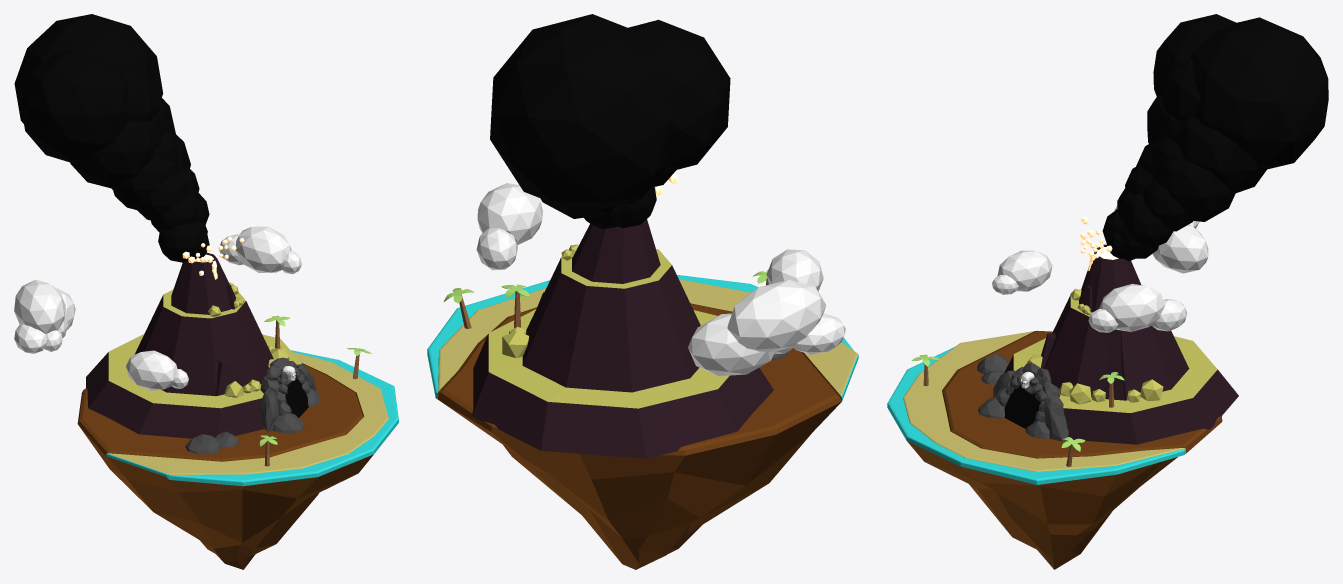
Rendered from island.glb.
The picture shows the model from 3 angles, left to right: view 1: azimuth 30°, elevation 25°; view 2: azimuth 150°, elevation 25°; view 3: azimuth 270°, elevation 25°; orthographic projection. The views are drawn at different scales.
Visible parts, largest first — view 1: Base.001_1, Base_35, Smoke.013_49, Smoke.012_48, Smoke.011_47, Clouds.002_26, Clouds.001_25, Smoke.007_43, Clouds.010_33, Smoke.014_50, Smoke.001_37, Smoke.005_41 (+7 smaller); view 2: Base_35, Base.001_1, Smoke.012_48, Smoke.013_49, Clouds.002_26, Clouds.009_32, Clouds.001_25, Clouds.010_33, Clouds.003_27, Clouds.008_31, Smoke.001_37, Icosphere.012_87; view 3: Base.001_1, Base_35, Smoke.012_48, Smoke.010_46, Smoke.006_42, Smoke.013_49, Clouds.001_25, Clouds.009_32, Smoke.014_50, Clouds.010_33, Smoke.004_40, Smoke.002_38 (+7 smaller).
Part boxes in pixels (x1,y1,x2,y2): Base.001_1: (77, 350, 398, 569); Base_35: (86, 252, 301, 438); Smoke.013_49: (20, 47, 128, 163); Smoke.012_48: (14, 14, 163, 123); Smoke.011_47: (70, 120, 156, 188); Clouds.002_26: (14, 279, 65, 333); Clouds.001_25: (235, 226, 291, 272); Smoke.007_43: (112, 155, 177, 209); Clouds.010_33: (126, 350, 177, 390); Smoke.014_50: (122, 70, 160, 121); Smoke.001_37: (158, 221, 202, 262); Smoke.005_41: (136, 172, 187, 220); Base_35: (472, 219, 773, 458); Base.001_1: (427, 275, 858, 569); Smoke.012_48: (490, 14, 670, 214); Smoke.013_49: (628, 19, 730, 173); Clouds.002_26: (727, 280, 826, 352); Clouds.009_32: (688, 313, 775, 376); Clouds.001_25: (477, 183, 542, 244); Clouds.010_33: (766, 249, 823, 291); Clouds.003_27: (476, 228, 517, 270); Clouds.008_31: (793, 313, 845, 354); Smoke.001_37: (618, 187, 656, 228); Icosphere.012_87: (502, 331, 528, 357); Base.001_1: (887, 330, 1222, 569); Base_35: (1004, 244, 1238, 444); Smoke.012_48: (1190, 17, 1328, 169); Smoke.010_46: (1173, 118, 1267, 192); Smoke.006_42: (1154, 158, 1235, 221); Smoke.013_49: (1153, 14, 1236, 96); Clouds.001_25: (1099, 283, 1165, 331); Clouds.009_32: (1152, 225, 1208, 273); Smoke.014_50: (1162, 59, 1200, 121); Clouds.010_33: (997, 250, 1052, 291); Smoke.004_40: (1143, 178, 1193, 231); Smoke.002_38: (1125, 206, 1173, 247).
Bounding box in the file's own units: 5.59 × 7.89 × 6.16.
